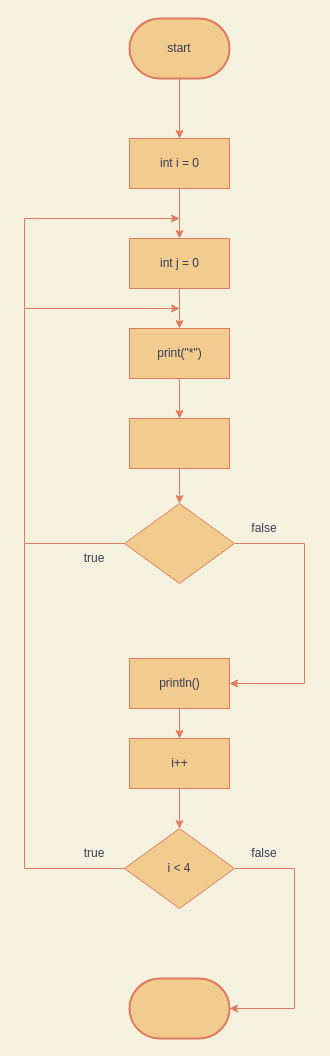
The diagram is 330 pixels wide and 1056 high, and some of its shapes have lost their labels. The shapes that lost their labels are listed below. From the top down, each one's centre as x and y in pixels, then its label:
At (x=179, y=443): "j++".
At (x=179, y=543): "j < 4".
At (x=179, y=1008): "end".
